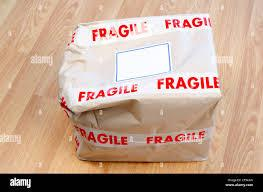damage_box: (56, 12, 222, 163)
